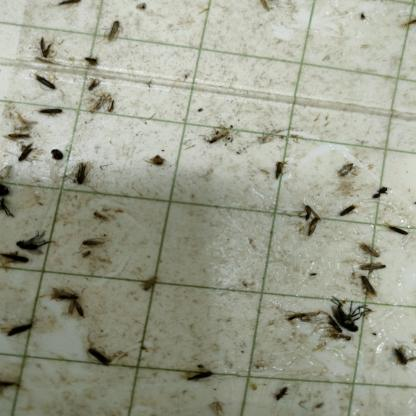prays_oleae: (384, 332, 416, 376), (358, 268, 382, 308), (86, 340, 113, 373), (71, 159, 93, 195), (149, 149, 169, 186), (335, 194, 361, 222), (79, 228, 107, 254), (356, 231, 380, 261), (187, 371, 220, 392), (16, 138, 39, 168), (4, 324, 38, 344), (30, 68, 58, 92), (386, 216, 410, 244), (105, 9, 122, 48), (1, 245, 29, 268), (357, 254, 385, 277), (329, 158, 356, 181), (0, 156, 8, 228), (138, 272, 163, 295), (268, 156, 286, 186), (270, 380, 288, 407), (47, 143, 66, 167), (326, 309, 341, 339), (82, 47, 100, 72), (52, 285, 80, 300), (92, 94, 110, 115), (307, 216, 323, 239), (18, 238, 46, 250), (87, 73, 102, 94), (374, 179, 390, 197), (39, 105, 65, 116), (5, 132, 32, 142), (301, 203, 316, 219)
